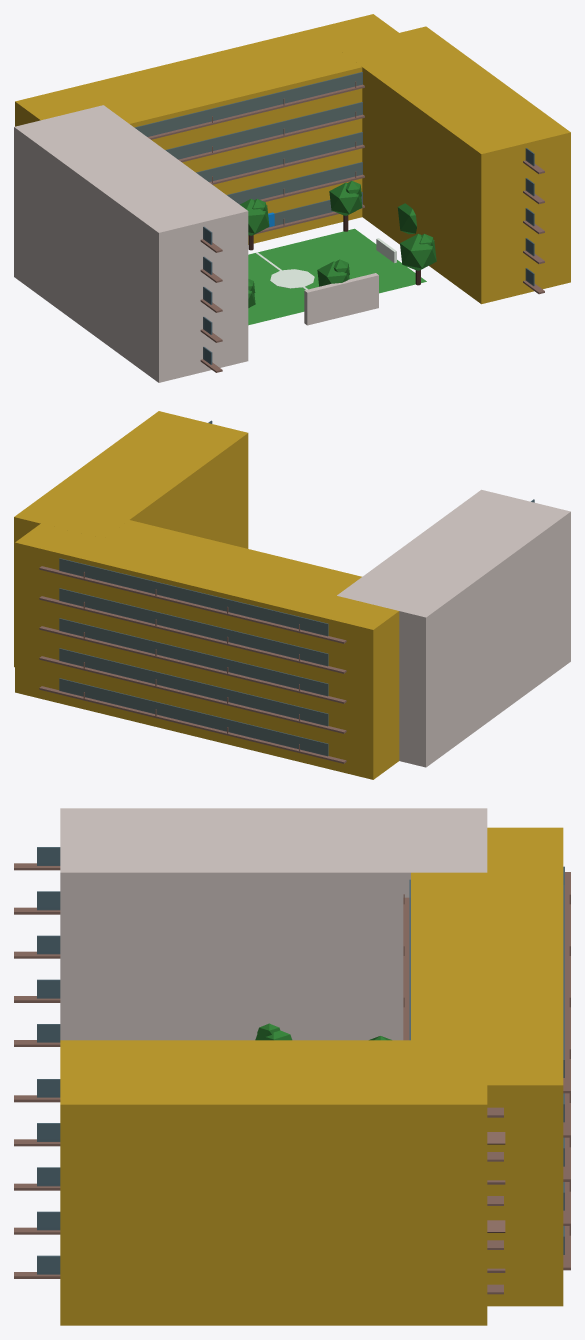
The model's file is ktx_khu_a.glb.
The picture shows the model from 3 angles, top to bottom: view 1: azimuth 30°, elevation 25°; view 2: azimuth 150°, elevation 25°; view 3: azimuth 270°, elevation 25°; orthographic projection. The views are drawn at different scales.
Parts seen in each view (by area): view 1: KTXA_Left_Body, KTXA_Right_Body, KTXA_Back_Body, KTXA_Pitch, KTXA_Back_WinStrip_4_-1, KTXA_Gate, KTXA_Back_WinStrip_3_-1, KTXA_Back_WinStrip_2_-1, KTXA_Back_WinStrip_1_-1, KTXA_Canopy_1, KTXA_Back_Bal_4_-1, KTXA_Back_Bal_3_-1 (+7 smaller); view 2: KTXA_Back_Body, KTXA_Left_Body, KTXA_Right_Body, KTXA_Back_WinStrip_0_1, KTXA_Back_WinStrip_1_1, KTXA_Back_WinStrip_2_1, KTXA_Back_WinStrip_3_1, KTXA_Back_WinStrip_4_1, KTXA_Back_Bal_0_1, KTXA_Back_Bal_2_1, KTXA_Back_Bal_3_1, KTXA_Back_Bal_1_1 (+1 smaller); view 3: KTXA_Right_Body, KTXA_Left_Body, KTXA_Back_Body, KTXA_Back_Bal_4_1, KTXA_Back_Bal_4_-1.
Part boxes in pixels (<box>): KTXA_Left_Body: <box>14,105,248,382</box>; KTXA_Right_Body: <box>337,26,570,304</box>; KTXA_Back_Body: <box>15,14,398,244</box>; KTXA_Pitch: <box>248,228,426,325</box>; KTXA_Back_WinStrip_4_-1: <box>134,72,362,136</box>; KTXA_Gate: <box>304,273,378,325</box>; KTXA_Back_WinStrip_3_-1: <box>165,102,362,159</box>; KTXA_Back_WinStrip_2_-1: <box>196,132,362,181</box>; KTXA_Back_WinStrip_1_-1: <box>227,162,362,204</box>; KTXA_Canopy_1: <box>400,233,436,270</box>; KTXA_Back_Bal_4_-1: <box>147,84,364,139</box>; KTXA_Back_Bal_3_-1: <box>178,114,364,162</box>; KTXA_Back_Body: <box>15,520,399,779</box>; KTXA_Left_Body: <box>337,489,570,767</box>; KTXA_Right_Body: <box>14,411,248,667</box>; KTXA_Back_WinStrip_0_1: <box>59,678,328,756</box>; KTXA_Back_WinStrip_1_1: <box>59,648,328,726</box>; KTXA_Back_WinStrip_2_1: <box>59,618,328,696</box>; KTXA_Back_WinStrip_3_1: <box>59,588,328,666</box>; KTXA_Back_WinStrip_4_1: <box>59,558,328,636</box>; KTXA_Back_Bal_0_1: <box>39,686,346,763</box>; KTXA_Back_Bal_2_1: <box>39,626,346,703</box>; KTXA_Back_Bal_3_1: <box>39,596,346,673</box>; KTXA_Back_Bal_1_1: <box>39,656,346,733</box>; KTXA_Right_Body: <box>60,1040,487,1325</box>; KTXA_Left_Body: <box>60,808,487,1040</box>; KTXA_Back_Body: <box>411,827,563,1306</box>; KTXA_Back_Bal_4_1: <box>563,872,570,1093</box>; KTXA_Back_Bal_4_-1: <box>403,897,409,1040</box>.
Bounding box in the file's own units: 46 × 16 × 36.55.
